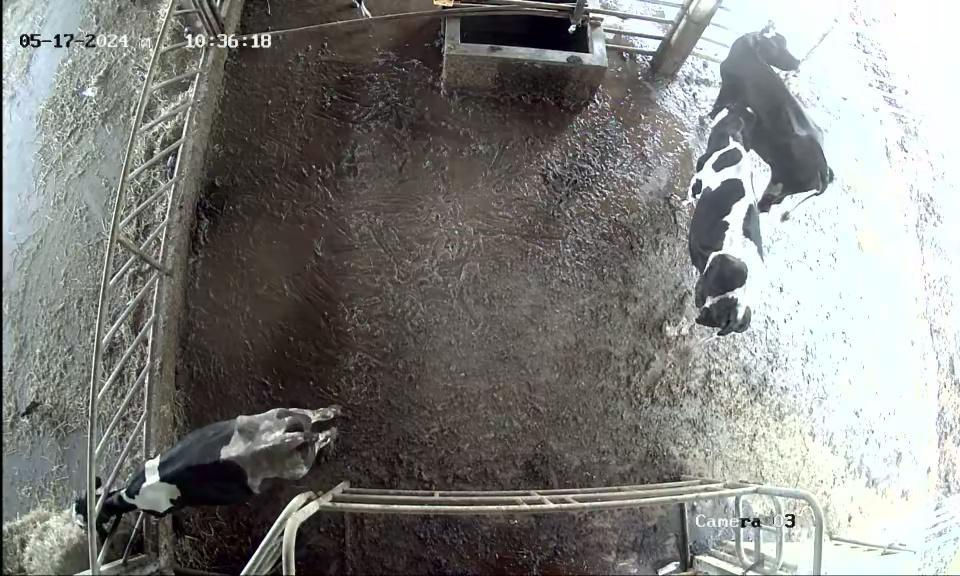eat: (52, 457, 157, 534)
stand: (660, 82, 761, 357), (716, 19, 838, 212)
